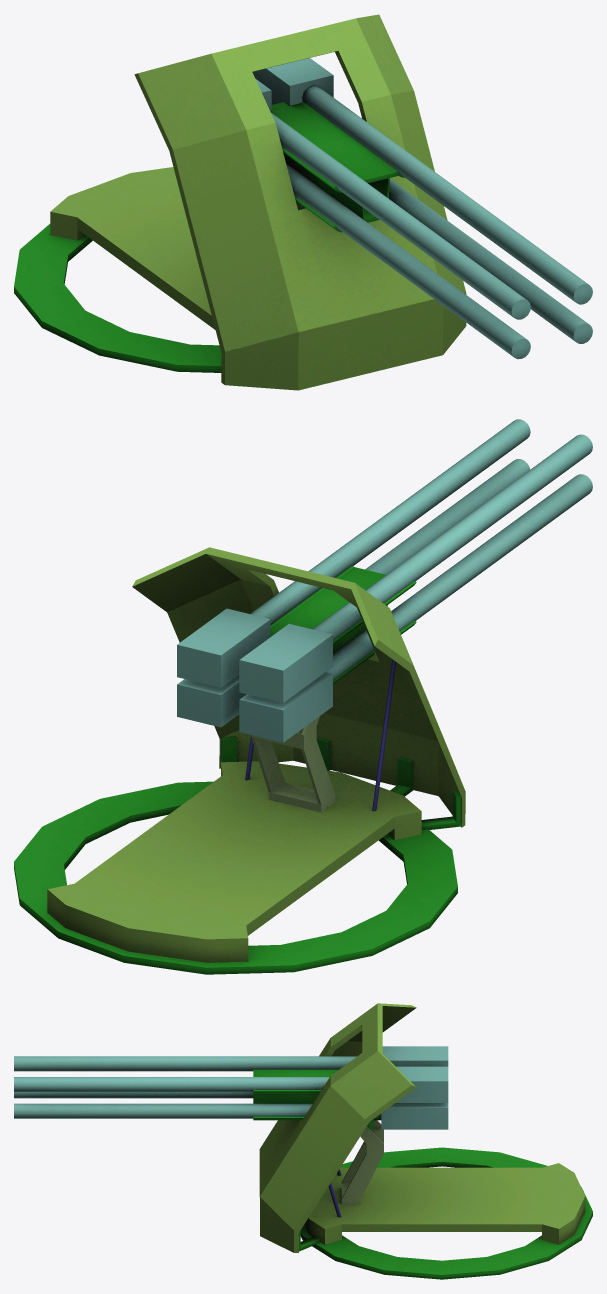
Rendered from gun1.obj.
The picture shows the model from 3 angles, top to bottom: view 1: azimuth 30°, elevation 25°; view 2: azimuth 150°, elevation 25°; view 3: azimuth 270°, elevation 25°; orthographic projection. The views are drawn at different scales.
Parts seen in each view (by area): view 1: Box01, Tube06, Tube05, Cylinder06, Cylinder04, Cylinder03, Tube01, Cylinder05, Box05; view 2: Tube06, Box01, Tube05, Cylinder06, Cylinder04, Cylinder03, Box03, Box05, Box06, Box02, Cylinder05, Tube01 (+2 smaller); view 3: Tube06, Box01, Tube05, Cylinder04, Cylinder05, Cylinder06, Box06, Tube01, Box04, Cylinder03, Box05, Box03.
Boxes of the visible parts, x1,y1,x2,y2 form: Box01: (134,14,466,390); Tube06: (50,167,215,329); Tube05: (14,224,221,372); Cylinder06: (302,85,592,304); Cylinder04: (271,113,530,319); Cylinder03: (286,163,530,359); Tube01: (270,102,404,232); Cylinder05: (389,178,592,343); Box05: (252,58,333,105); Tube06: (47,761,421,962); Box01: (132,547,465,827); Tube05: (14,781,457,974); Cylinder06: (250,419,530,624); Cylinder04: (312,434,592,640); Cylinder03: (326,474,592,679); Box03: (239,623,332,702); Box05: (177,608,270,687); Box06: (251,716,335,812); Box02: (239,672,332,742); Cylinder05: (365,459,530,574); Tube01: (270,565,416,684); Tube06: (305,1163,585,1244); Box01: (259,1003,416,1252); Tube05: (300,1147,592,1279); Cylinder04: (14,1056,356,1071); Cylinder05: (14,1103,381,1118); Cylinder06: (14,1077,329,1091); Box06: (341,1120,383,1204); Tube01: (253,1069,381,1131); Box04: (381,1103,448,1129); Cylinder03: (14,1092,253,1098); Box05: (396,1066,448,1102); Box03: (382,1046,448,1066).
Bounding box in the file's own units: 8 × 5.53 × 15.35.
